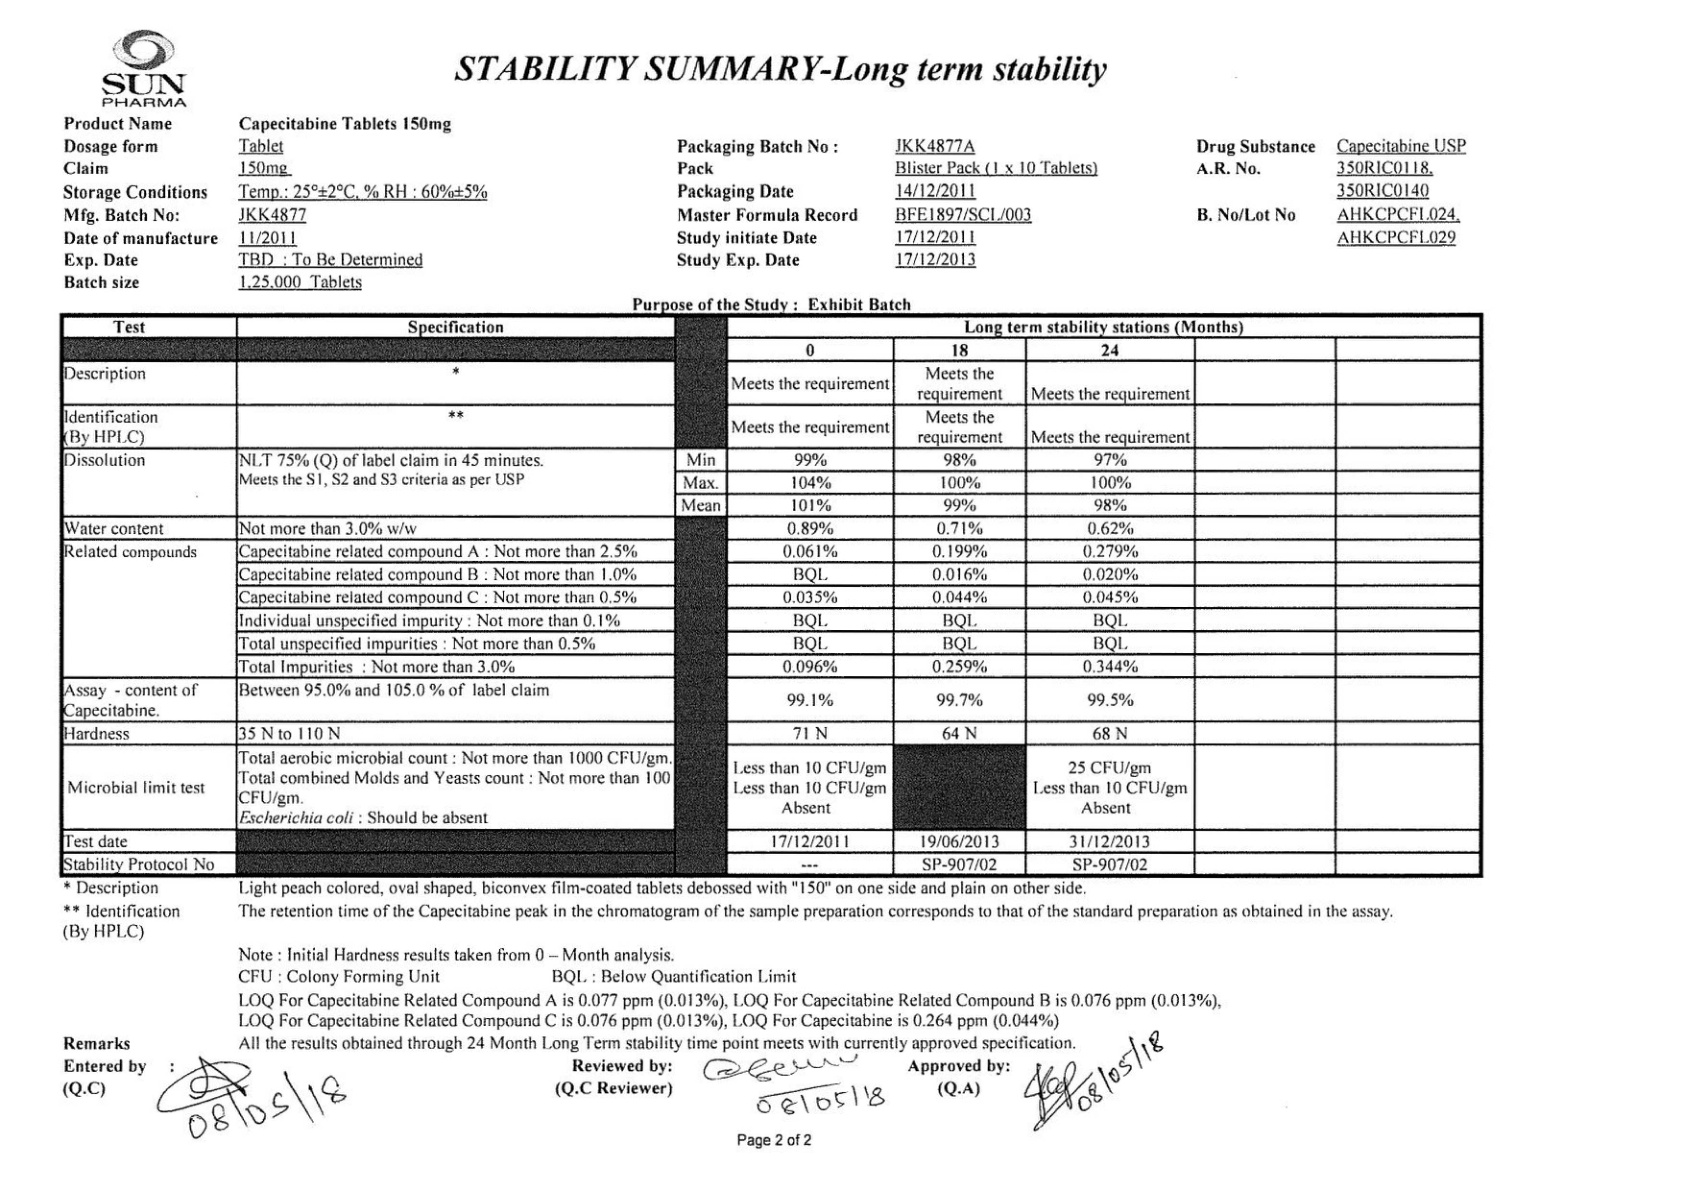merged_cells: (59, 312, 1483, 879)
nolines: (63, 115, 489, 292), (677, 137, 1099, 270), (1197, 137, 1467, 246)
